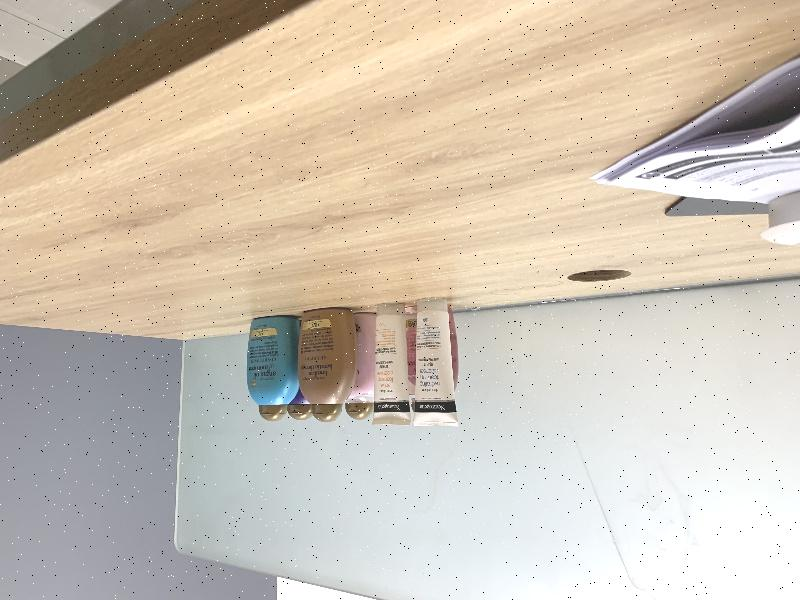AcneFoamingCleanser: (372, 304, 412, 426)
ArganOilOfMorocco_Conditioner: (247, 316, 298, 422)
BrazilianKeratinTherapy_Shampoo: (297, 308, 357, 423)
HydratingFoamingCleanser: (413, 298, 459, 427)
